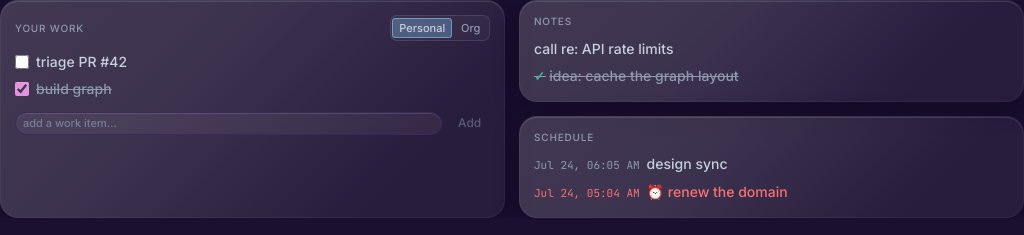
Scenario: TasksTab — work items (personal/org scope) › the Org SegControl option switches the filtered scope
Expected: the text "triage PR #42" is shown, 36,53 -> 127,70
Step 1. Click the button with test id "seg-org" → (471, 28), box 454,18 -> 487,38
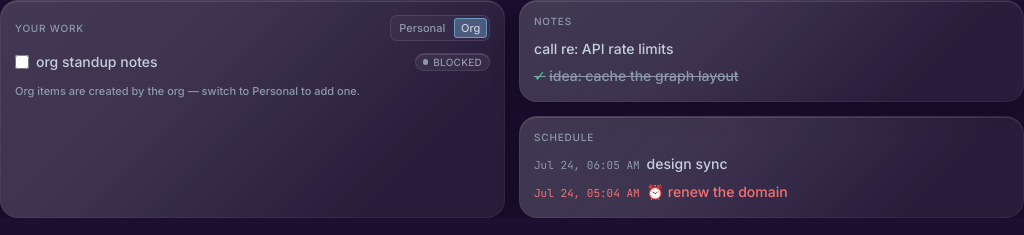
Result: the text "org standup notes" is shown at 36,53 -> 158,70
Result: the text "triage PR #42" is gone
